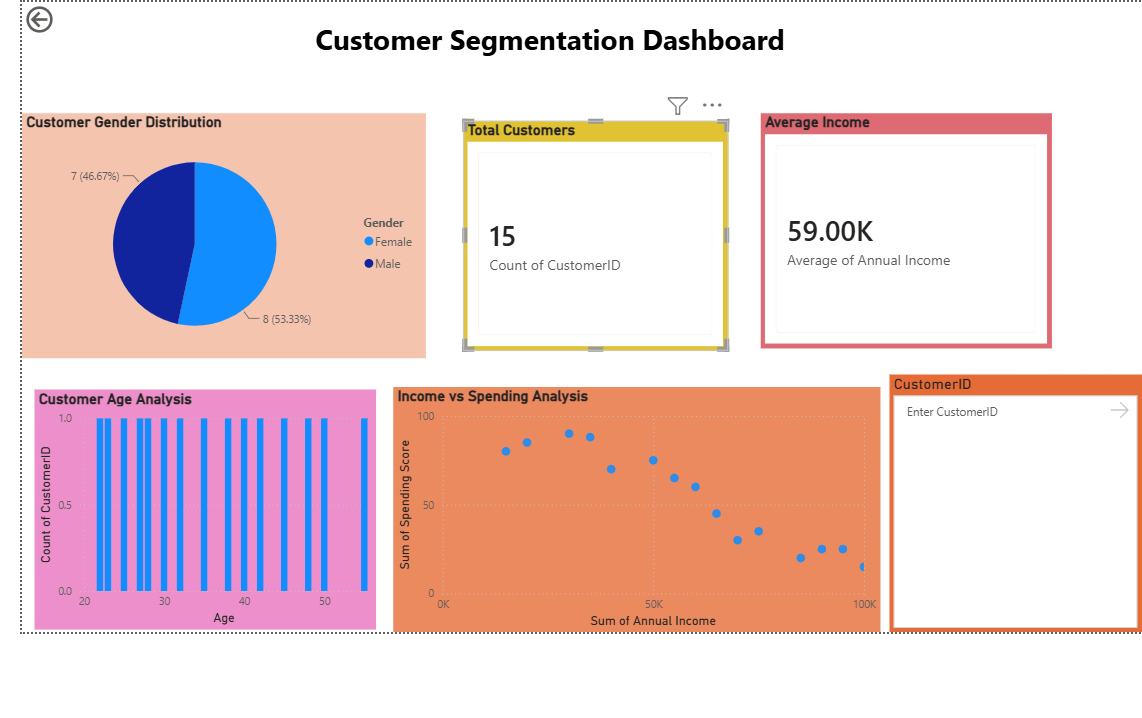

The dashboard page shown, as its layout file describes it:
{"tool":"powerbi","page":{"name":"Page 1","canvas":[1280,720],"ordinal":0},"visuals":[{"type":"pieChart","title":"Customer Gender Distribution","fields":{"Category":["Customers.Gender"],"Y":["CountNonNull(Customers.CustomerID)"]},"box":[0,127.1,461.4,280],"z":0},{"type":"textbox","box":[153.7,15.1,898.8,57.6],"z":4},{"type":"clusteredColumnChart","title":"Customer Age Analysis","fields":{"Category":["Customers.Age"],"Y":["CountNonNull(Customers.CustomerID)"]},"box":[14.3,442.9,390,274.3],"z":5},{"type":"scatterChart","title":"Income vs Spending Analysis","fields":{"X":["Sum(Customers.Annual Income)"],"Y":["Sum(Customers.Spending Score)"],"Category":["Customers.CustomerID"]},"box":[424.3,440,557.1,280],"z":6},{"type":"cardVisual","title":"Total Customers","fields":{"Data":["CountNonNull(Customers.CustomerID)"]},"box":[504.3,135.7,302.9,262.9],"z":7},{"type":"cardVisual","title":"Average Income","fields":{"Data":["Avg(Customers.Annual Income)"]},"box":[844.3,127.1,332.9,268.6],"z":8},{"type":"textSlicer","fields":{"Values":["Customers.CustomerID"]},"box":[991.4,425.7,288.6,294.3],"z":9},{"type":"actionButton","box":[0,0,100,40],"z":10}]}

Visuals, with their boxes in screenshot pixels (x1, y1, x2, y2):
"Customer Gender Distribution" pieChart: <box>15,109,421,355</box>
textbox: <box>150,10,941,61</box>
"Customer Age Analysis" clusteredColumnChart: <box>27,387,371,628</box>
"Income vs Spending Analysis" scatterChart: <box>388,384,878,631</box>
"Total Customers" cardVisual: <box>459,116,725,348</box>
"Average Income" cardVisual: <box>758,109,1051,345</box>
textSlicer - Customers.CustomerID: <box>887,372,1141,631</box>
actionButton: <box>15,0,103,32</box>
